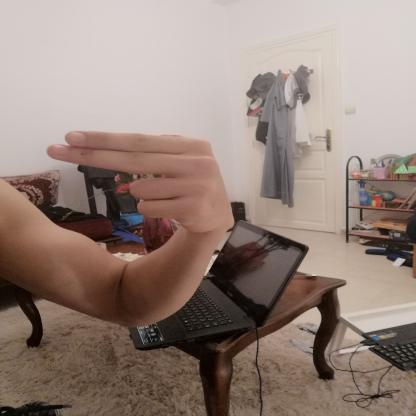AYN: (31, 118, 248, 239)
